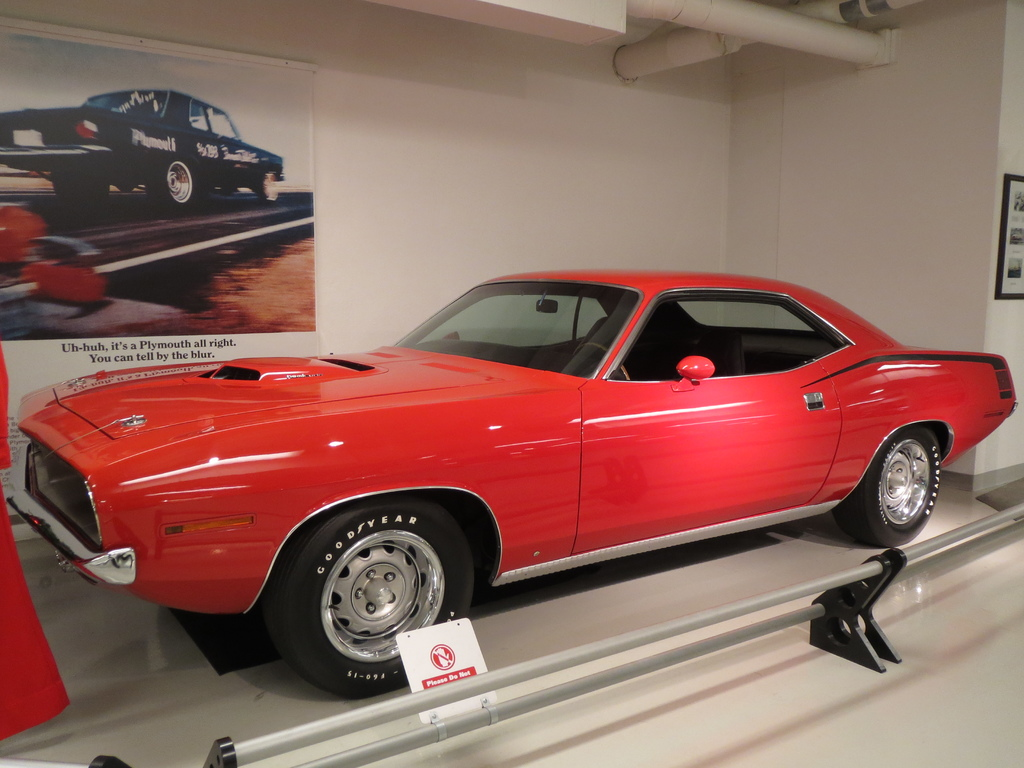Car: (23, 270, 972, 681), (0, 80, 285, 219)
